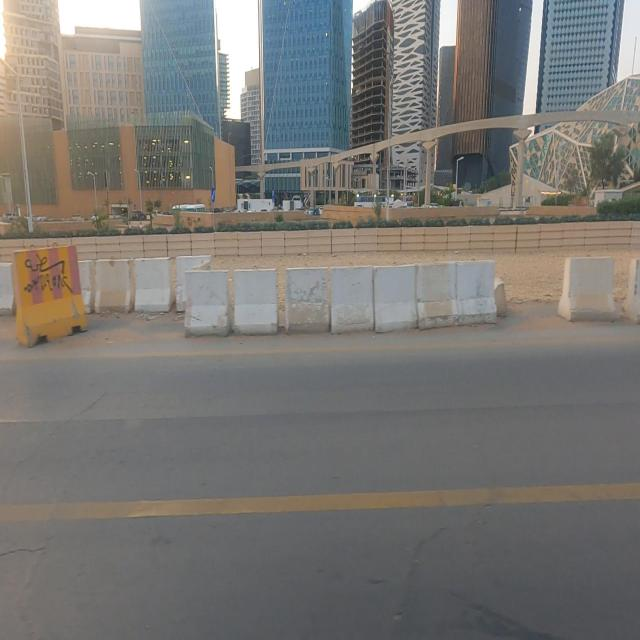Graffiti: (22, 252, 74, 299)
